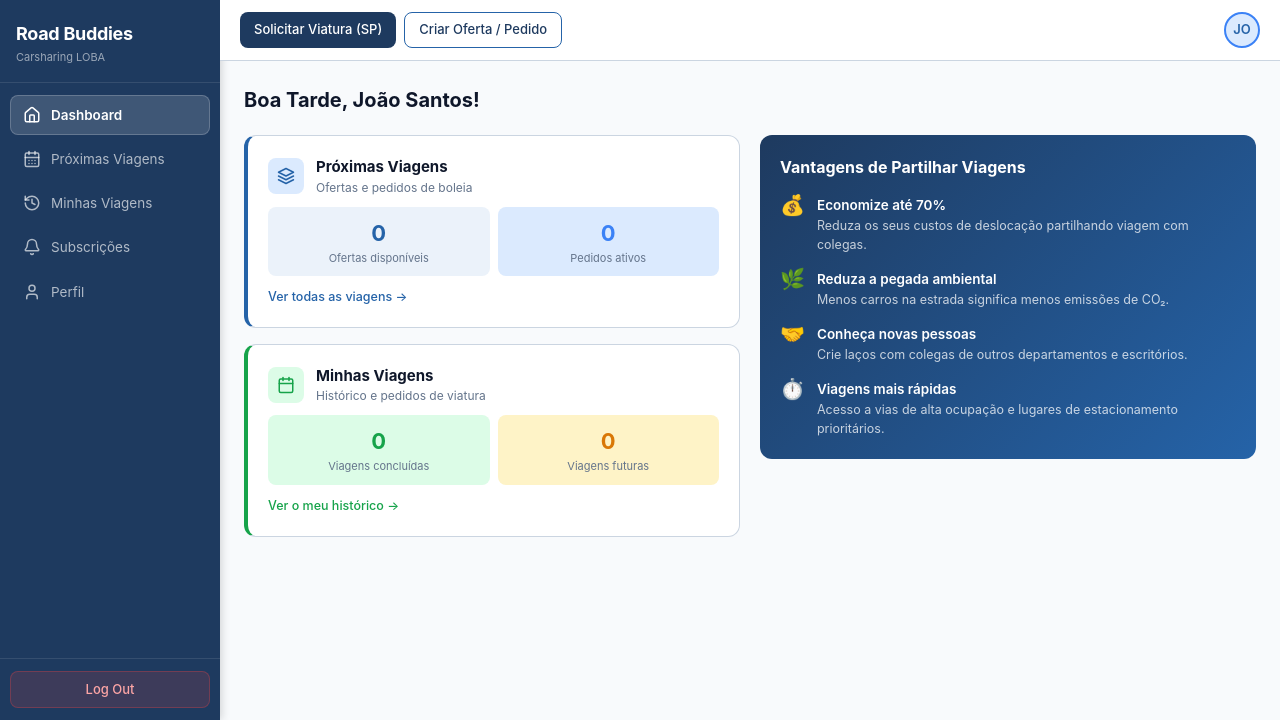
Navegação e Autenticação Geral › deve conseguir navegar entre os modos da aplicação sem falhas
The width and height of the screenshot is (1280, 720).
Expected: the text "Road Buddies" is shown, left=16, top=20, right=133, bottom=47
Expected: the button "Dashboard" is shown, left=10, top=94, right=210, bottom=135
Note: Próximas Viagens — verifica que carrega a lista (mesmo que vazia)
What coordinates should you click on to do the following:
click the button "Próximas Viagens"
I would click on:
 (94, 159)
Its box is left=23, top=150, right=165, bottom=168.
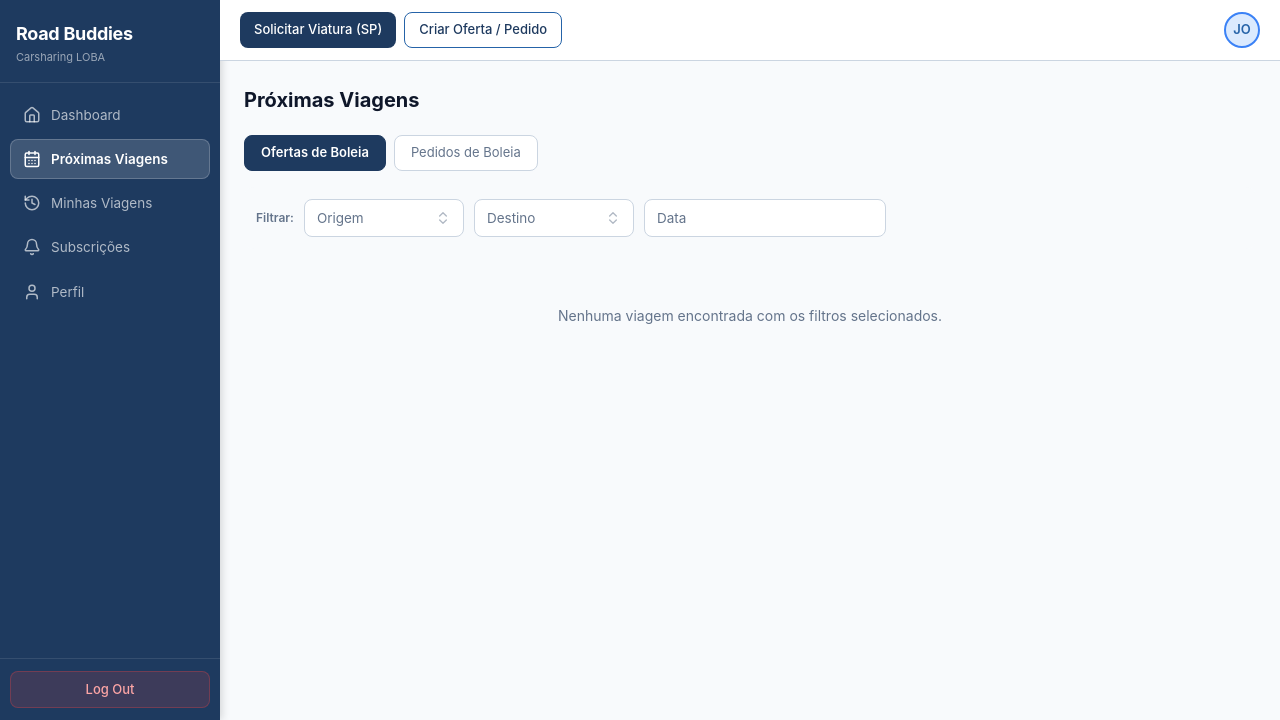
Expected: the text "Nenhuma viagem encontrada com os filtros selecionados." is shown, left=558, top=307, right=942, bottom=324
Note: Minhas Viagens — verifica tabs de conteúdo
What coordinates should you click on to do the following:
click the button "Minhas Viagens"
I would click on:
 (88, 203)
Its box is left=23, top=194, right=152, bottom=212.
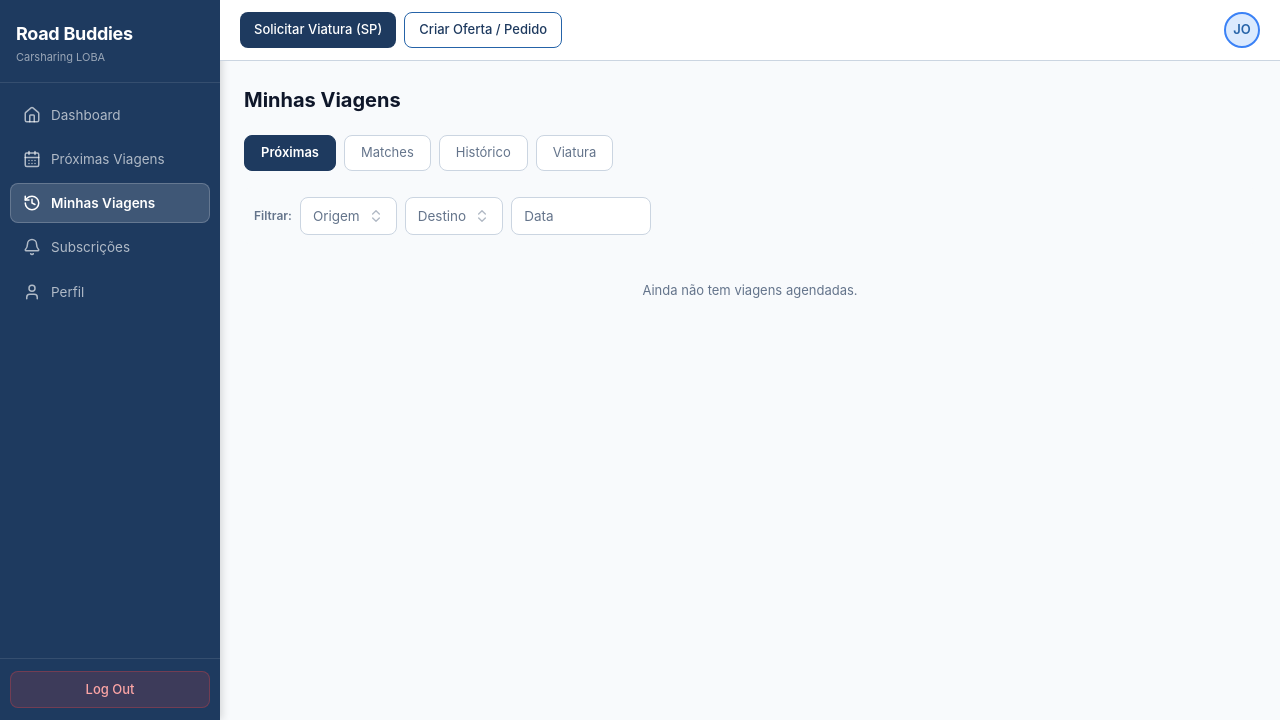
Expected: the button "Histórico" is shown, left=439, top=135, right=528, bottom=170
Expected: the button "Matches" is shown, left=344, top=135, right=431, bottom=170
What coordinates should you click on to do the following:
click the button "Perfil"
I would click on:
 (54, 292)
Its box is left=23, top=283, right=84, bottom=301.
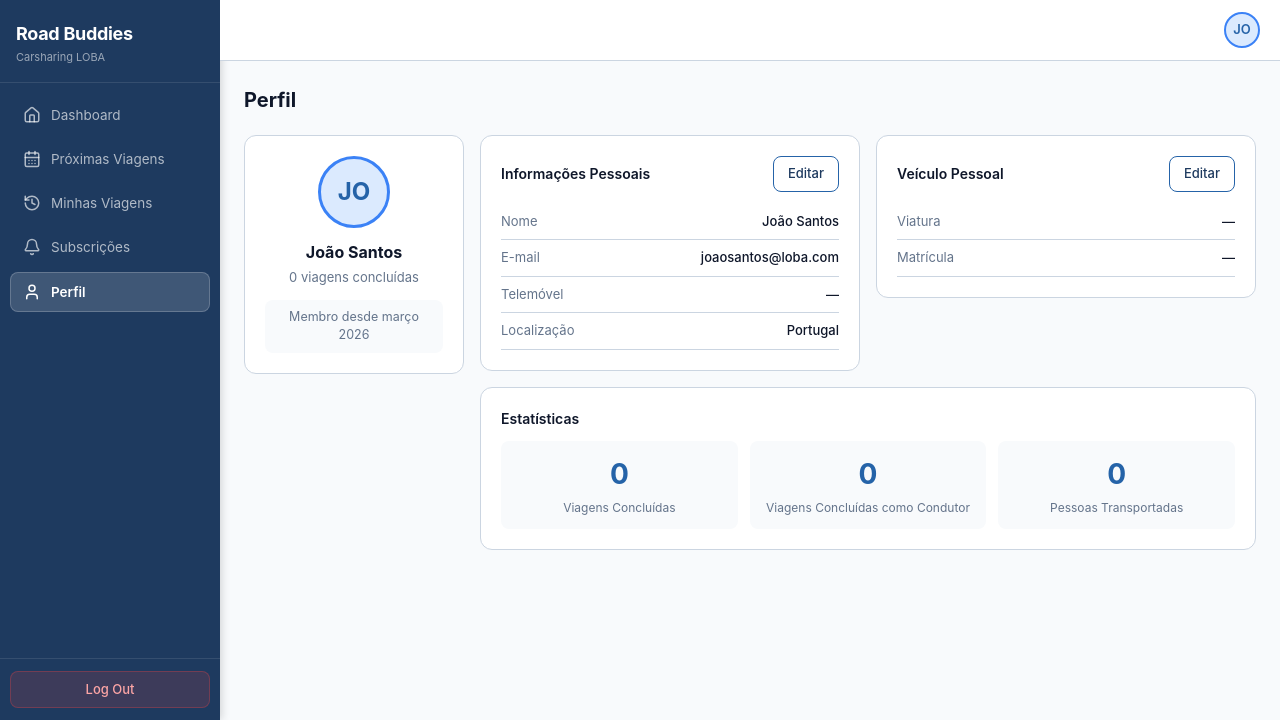
Expected: the text "Informações Pessoais" is shown, left=501, top=163, right=650, bottom=184
Expected: the 2nd text "João Santos" is shown, left=306, top=242, right=402, bottom=262
